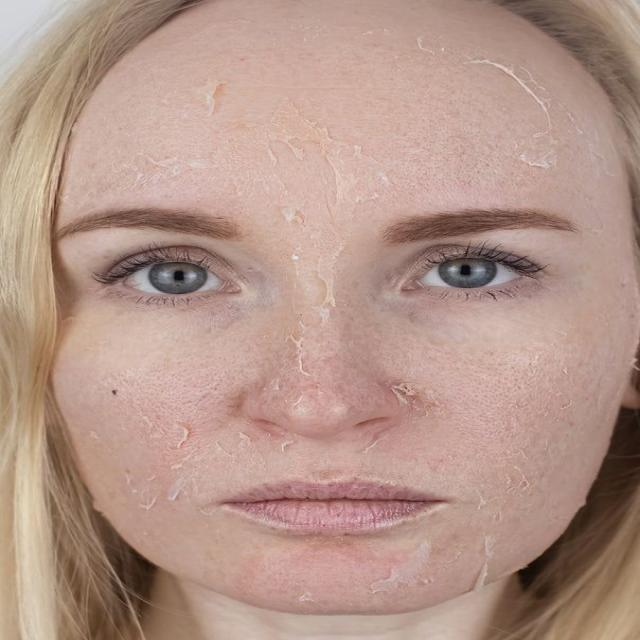dry: (312, 72, 450, 150), (280, 324, 390, 407), (132, 82, 249, 160), (276, 551, 414, 604), (482, 366, 562, 454), (84, 394, 190, 460), (500, 114, 602, 182)
